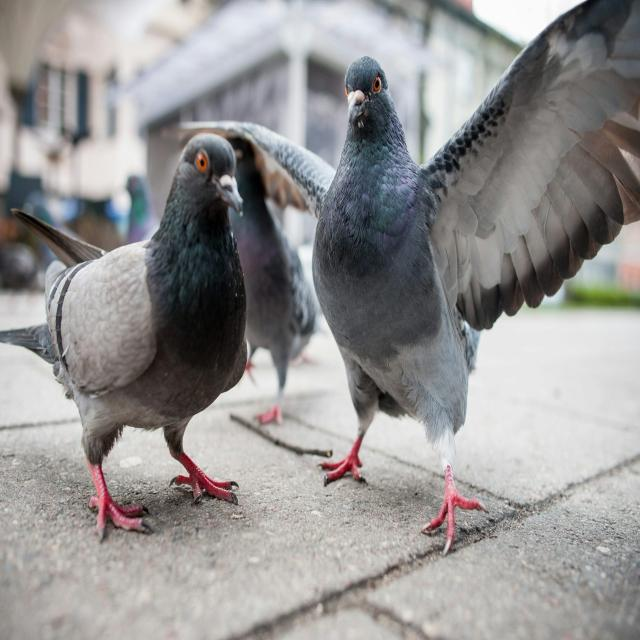Pigeon: (255, 3, 640, 540), (0, 129, 248, 543)
